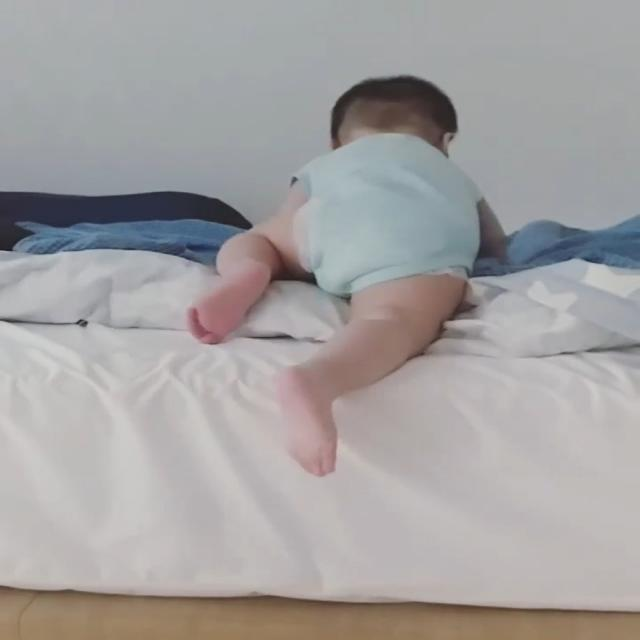child: (182, 74, 510, 476)
